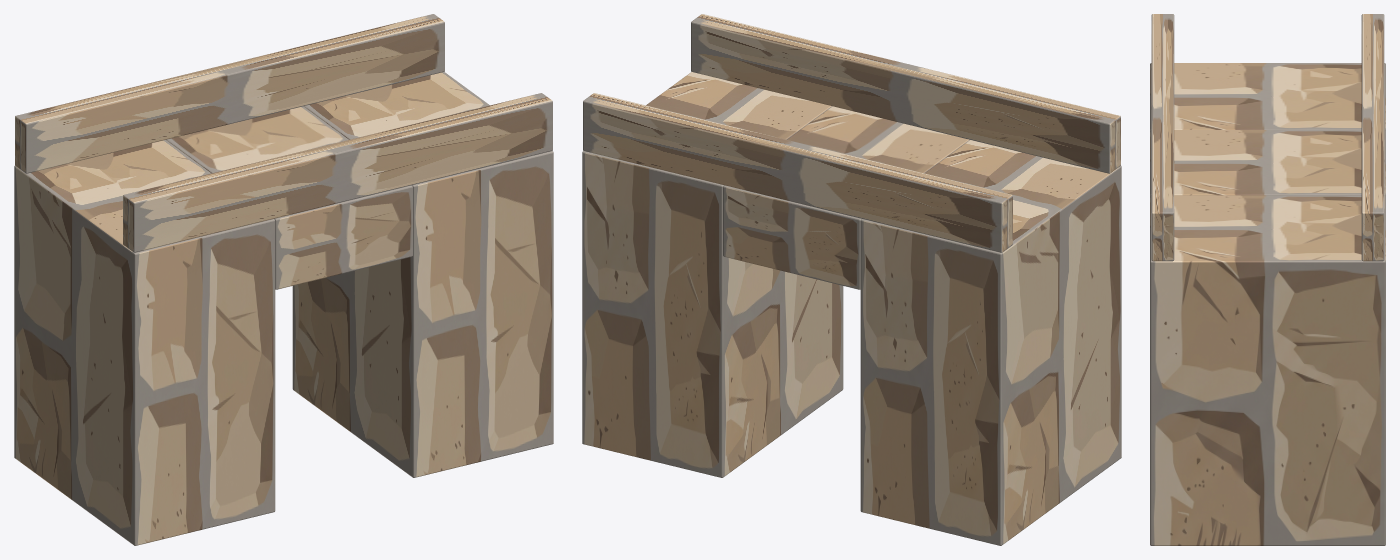
The model's file is fortress_gatehouse_LOD1.glb.
3 views of the same model, side by side, from view 1: azimuth 30°, elevation 25°; view 2: azimuth 150°, elevation 25°; view 3: azimuth 270°, elevation 25° (orthographic). The views are drawn at different scales.
Parts seen in each view (by area): view 1: LOD_Left, LOD_Right, LOD_Parapet.001, LOD_Parapet, LOD_Upper; view 2: LOD_Left, LOD_Right, LOD_Parapet, LOD_Parapet.001, LOD_Upper; view 3: LOD_Right, LOD_Left, LOD_Upper, LOD_Parapet, LOD_Parapet.001.
Part boxes in pixels (x1=…): LOD_Left: x1=14, y1=140, x2=275, y2=545; LOD_Right: x1=292, y1=72, x2=553, y2=477; LOD_Parapet.001: x1=15, y1=14, x2=444, y2=173; LOD_Parapet: x1=123, y1=93, x2=552, y2=252; LOD_Upper: x1=166, y1=106, x2=412, y2=289; LOD_Left: x1=860, y1=140, x2=1121, y2=545; LOD_Right: x1=582, y1=72, x2=843, y2=477; LOD_Parapet: x1=691, y1=14, x2=1120, y2=173; LOD_Parapet.001: x1=583, y1=93, x2=1012, y2=252; LOD_Upper: x1=723, y1=106, x2=969, y2=289; LOD_Right: x1=1150, y1=195, x2=1385, y2=545; LOD_Left: x1=1150, y1=63, x2=1385, y2=130; LOD_Upper: x1=1150, y1=130, x2=1385, y2=195; LOD_Parapet: x1=1151, y1=14, x2=1174, y2=261; LOD_Parapet.001: x1=1361, y1=14, x2=1384, y2=261.
Size of the model in its own units: 9.6 by 7.5 by 4.8.
Materials: 1 (1 with a texture image).
